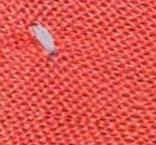hole: (26, 22, 64, 60)
